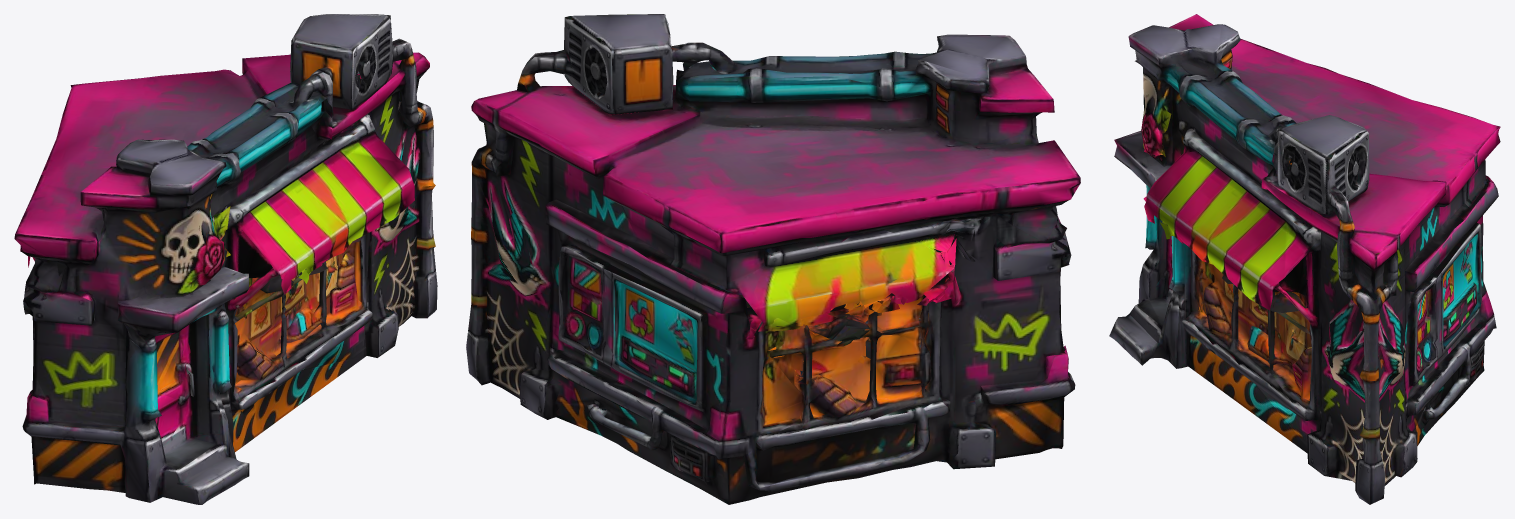
The model's file is GW_D01_shopfront_wall.glb.
3 renders of one model, left to right at view 1: azimuth 30°, elevation 25°; view 2: azimuth 150°, elevation 25°; view 3: azimuth 270°, elevation 25°, orthographic. The views are drawn at different scales.
Visible parts, largest first — view 1: tripo_node_588030cb-0cc9-4508-8715-95840faca27d; view 2: tripo_node_588030cb-0cc9-4508-8715-95840faca27d; view 3: tripo_node_588030cb-0cc9-4508-8715-95840faca27d.
Boxes of the visible parts, box(x1,y1,x2,y2) form: tripo_node_588030cb-0cc9-4508-8715-95840faca27d: box(14, 14, 437, 504); tripo_node_588030cb-0cc9-4508-8715-95840faca27d: box(466, 14, 1080, 504); tripo_node_588030cb-0cc9-4508-8715-95840faca27d: box(1109, 14, 1500, 504).
Bounding box in the file's own units: 0.9971 × 0.6518 × 0.7146.
1 material, 1 textured.
